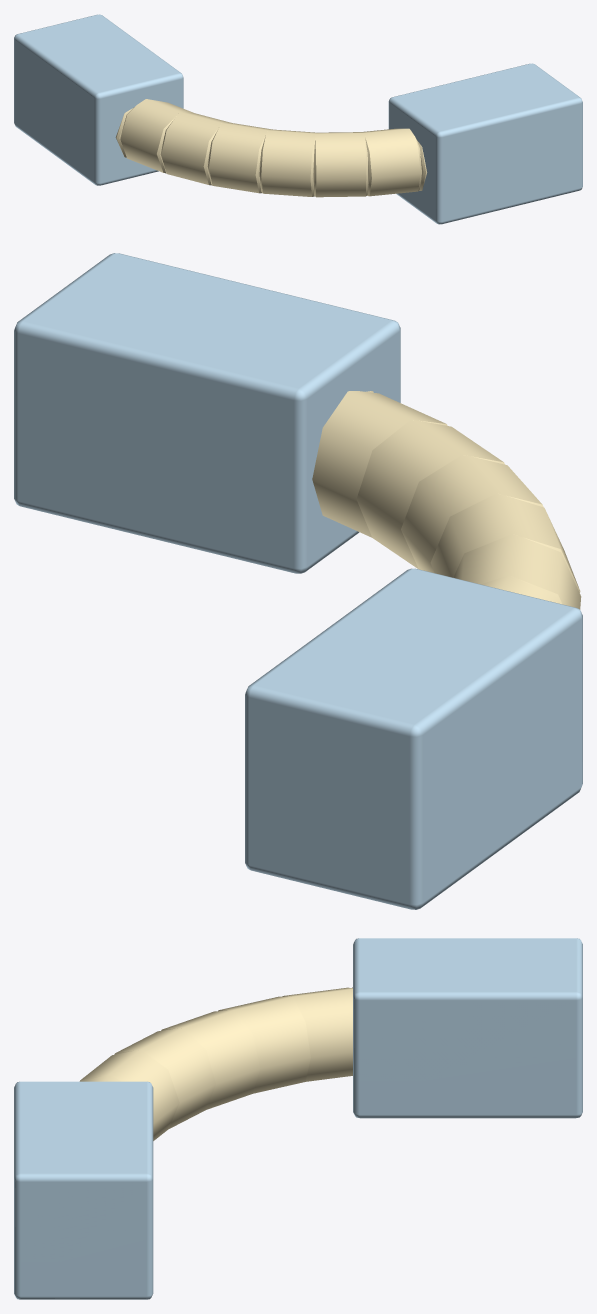
Rendered from R4C_ROD_ARC_SHORT.glb.
The picture shows the model from 3 angles, top to bottom: view 1: azimuth 30°, elevation 25°; view 2: azimuth 150°, elevation 25°; view 3: azimuth 270°, elevation 25°; orthographic projection. The views are drawn at different scales.
Visible parts, largest first — view 1: R4C_ROD_ARC_SHORT; view 2: R4C_ROD_ARC_SHORT; view 3: R4C_ROD_ARC_SHORT.
Boxes of the visible parts, bbox=[...] form: R4C_ROD_ARC_SHORT: bbox=[14, 14, 582, 224]; R4C_ROD_ARC_SHORT: bbox=[14, 253, 582, 909]; R4C_ROD_ARC_SHORT: bbox=[14, 938, 582, 1299].
Bounding box in the file's own units: 0.923 × 0.226 × 0.923.
